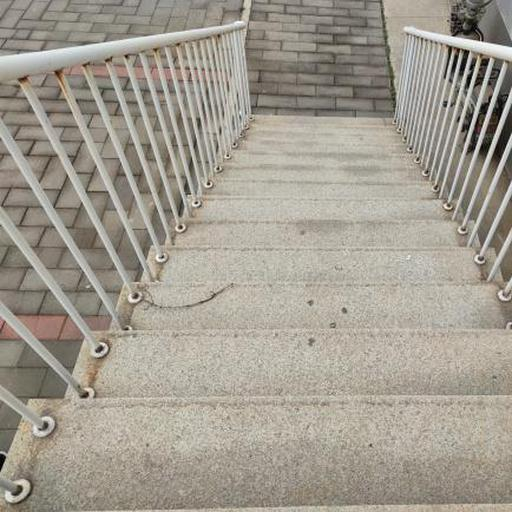Stairs: (0, 116, 512, 512)
